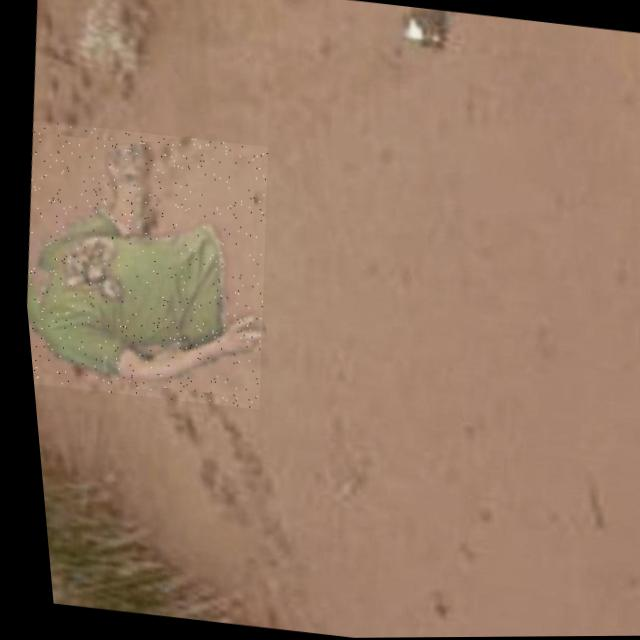Person in Rubble: (8, 118, 283, 410)
